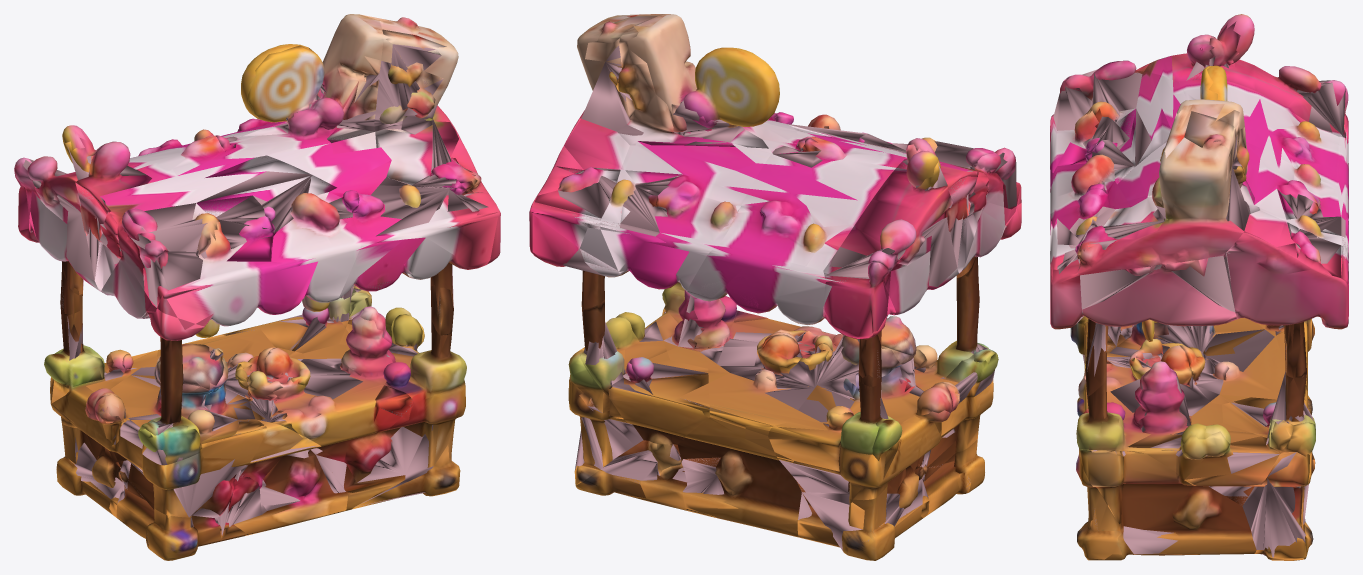
File: CF_Shop_Fractured.fbx
The picture shows the model from 3 angles, left to right: view 1: azimuth 30°, elevation 25°; view 2: azimuth 150°, elevation 25°; view 3: azimuth 270°, elevation 25°; orthographic projection.
Visible parts, largest first — view 1: CF_Shop_Frag_17, CF_Shop_Frag_09, CF_Shop_Frag_19, CF_Shop_Frag_06, CF_Shop_Frag_14, CF_Shop_Frag_02, CF_Shop_Frag_15, CF_Shop_Frag_16, CF_Shop_Frag_13, CF_Shop_Frag_27, CF_Shop_Frag_20, CF_Shop_Frag_24 (+10 smaller); view 2: CF_Shop_Frag_09, CF_Shop_Frag_10, CF_Shop_Frag_14, CF_Shop_Frag_12, CF_Shop_Frag_07, CF_Shop_Frag_24, CF_Shop_Frag_21, CF_Shop_Frag_08, CF_Shop_Frag_29, CF_Shop_Frag_23, CF_Shop_Frag_00, CF_Shop_Frag_26 (+12 smaller); view 3: CF_Shop_Frag_06, CF_Shop_Frag_17, CF_Shop_Frag_07, CF_Shop_Frag_05, CF_Shop_Frag_18, CF_Shop_Frag_14, CF_Shop_Frag_20, CF_Shop_Frag_03, CF_Shop_Frag_04, CF_Shop_Frag_10, CF_Shop_Frag_19, CF_Shop_Frag_12 (+10 smaller).
Part boxes in pixels (<box>): CF_Shop_Frag_17: <box>117,147,360,326</box>; CF_Shop_Frag_09: <box>236,14,383,191</box>; CF_Shop_Frag_19: <box>337,185,500,335</box>; CF_Shop_Frag_06: <box>374,17,488,192</box>; CF_Shop_Frag_14: <box>14,125,151,295</box>; CF_Shop_Frag_02: <box>248,347,413,463</box>; CF_Shop_Frag_15: <box>215,420,347,541</box>; CF_Shop_Frag_16: <box>344,386,465,510</box>; CF_Shop_Frag_13: <box>95,304,238,465</box>; CF_Shop_Frag_27: <box>110,419,266,517</box>; CF_Shop_Frag_20: <box>303,306,466,403</box>; CF_Shop_Frag_24: <box>44,309,157,438</box>; CF_Shop_Frag_09: <box>617,14,799,148</box>; CF_Shop_Frag_10: <box>600,145,774,291</box>; CF_Shop_Frag_14: <box>823,138,988,344</box>; CF_Shop_Frag_12: <box>720,136,904,270</box>; CF_Shop_Frag_07: <box>529,118,629,308</box>; CF_Shop_Frag_24: <box>768,379,927,500</box>; CF_Shop_Frag_21: <box>678,417,801,537</box>; CF_Shop_Frag_08: <box>581,299,709,444</box>; CF_Shop_Frag_29: <box>701,276,830,435</box>; CF_Shop_Frag_23: <box>797,449,929,560</box>; CF_Shop_Frag_00: <box>789,335,952,465</box>; CF_Shop_Frag_26: <box>687,244,825,324</box>; CF_Shop_Frag_06: <box>1077,109,1249,275</box>; CF_Shop_Frag_17: <box>1050,60,1186,214</box>; CF_Shop_Frag_07: <box>1223,210,1348,378</box>; CF_Shop_Frag_05: <box>1079,449,1256,555</box>; CF_Shop_Frag_18: <box>1080,255,1236,340</box>; CF_Shop_Frag_14: <box>1136,14,1347,138</box>; CF_Shop_Frag_20: <box>1076,332,1222,451</box>; CF_Shop_Frag_03: <box>1143,419,1293,506</box>; CF_Shop_Frag_04: <box>1242,422,1315,558</box>; CF_Shop_Frag_10: <box>1246,142,1348,262</box>; CF_Shop_Frag_19: <box>1050,189,1142,396</box>; CF_Shop_Frag_12: <box>1179,47,1338,186</box>.
Bounding box in the file's own units: 901 × 1013 × 621.
